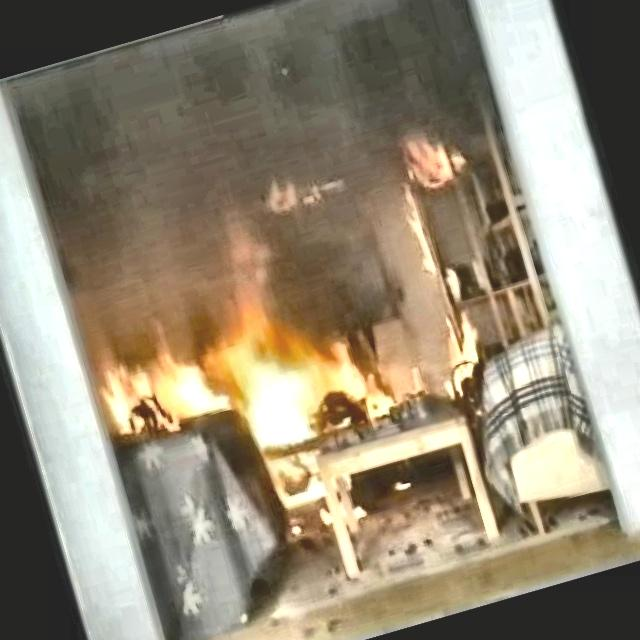fire: (75, 254, 412, 563)
